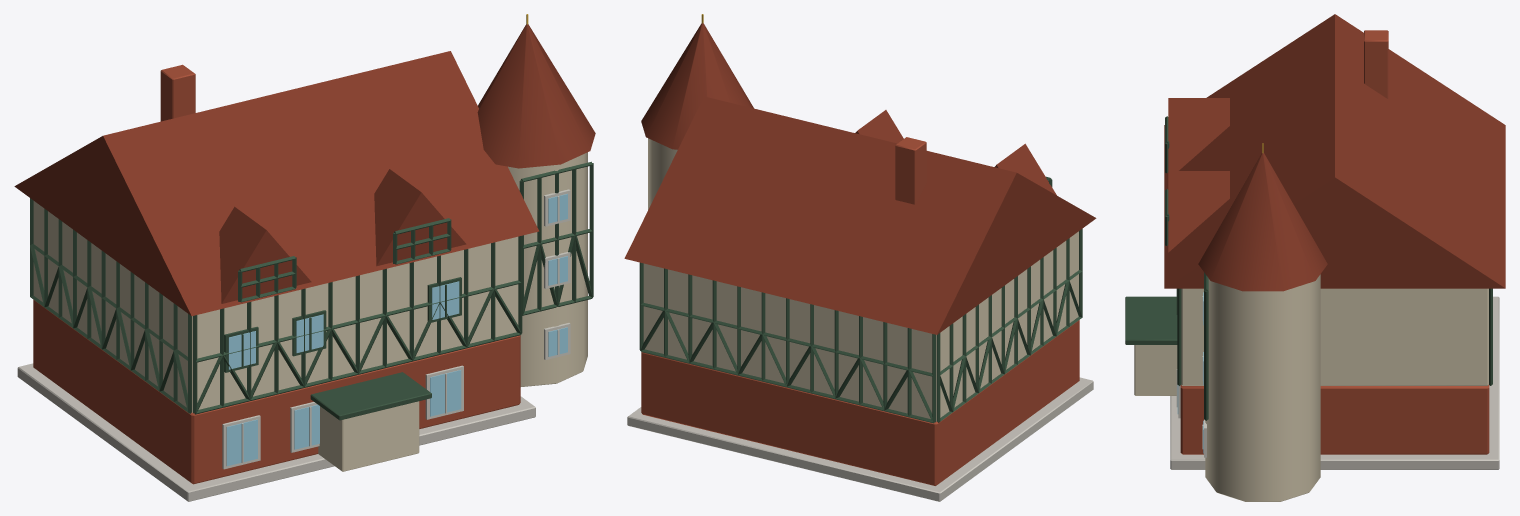
File: 128_villa_strassburger.fbx
The picture shows the model from 3 angles, left to right: view 1: azimuth 30°, elevation 25°; view 2: azimuth 150°, elevation 25°; view 3: azimuth 270°, elevation 25°; orthographic projection. The views are drawn at different scales.
Visible parts, largest first — view 1: Murs, Toits, Tourelle, Colombages; view 2: Toits, Murs, Colombages, Tourelle; view 3: Toits, Murs, Tourelle, Colombages.
Boxes of the visible parts, box(x1,y1,x2,y2) form: Murs: box(17, 64, 535, 501); Toits: box(14, 51, 539, 315); Tourelle: box(477, 14, 595, 386); Colombages: box(30, 198, 522, 414); Toits: box(624, 96, 1096, 334); Murs: box(627, 137, 1093, 501); Colombages: box(639, 176, 1082, 423); Tourelle: box(641, 14, 753, 209); Toits: box(1164, 14, 1505, 288); Murs: box(1125, 30, 1499, 469); Tourelle: box(1198, 143, 1327, 501); Colombages: box(1165, 116, 1492, 385).
Size of the model in its own units: 7.28 by 5.6 by 5.6.
1 material, 1 textured.
